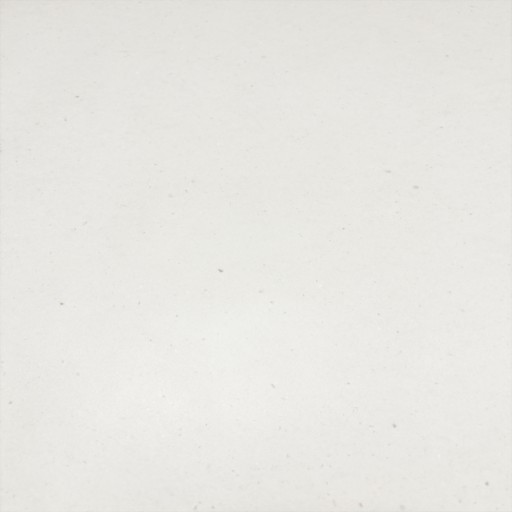lego: (209, 198, 303, 315)
